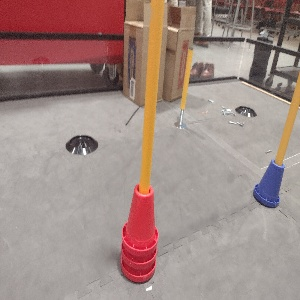Blue_1: (251, 154, 285, 210)
Red_3: (117, 181, 159, 283)
